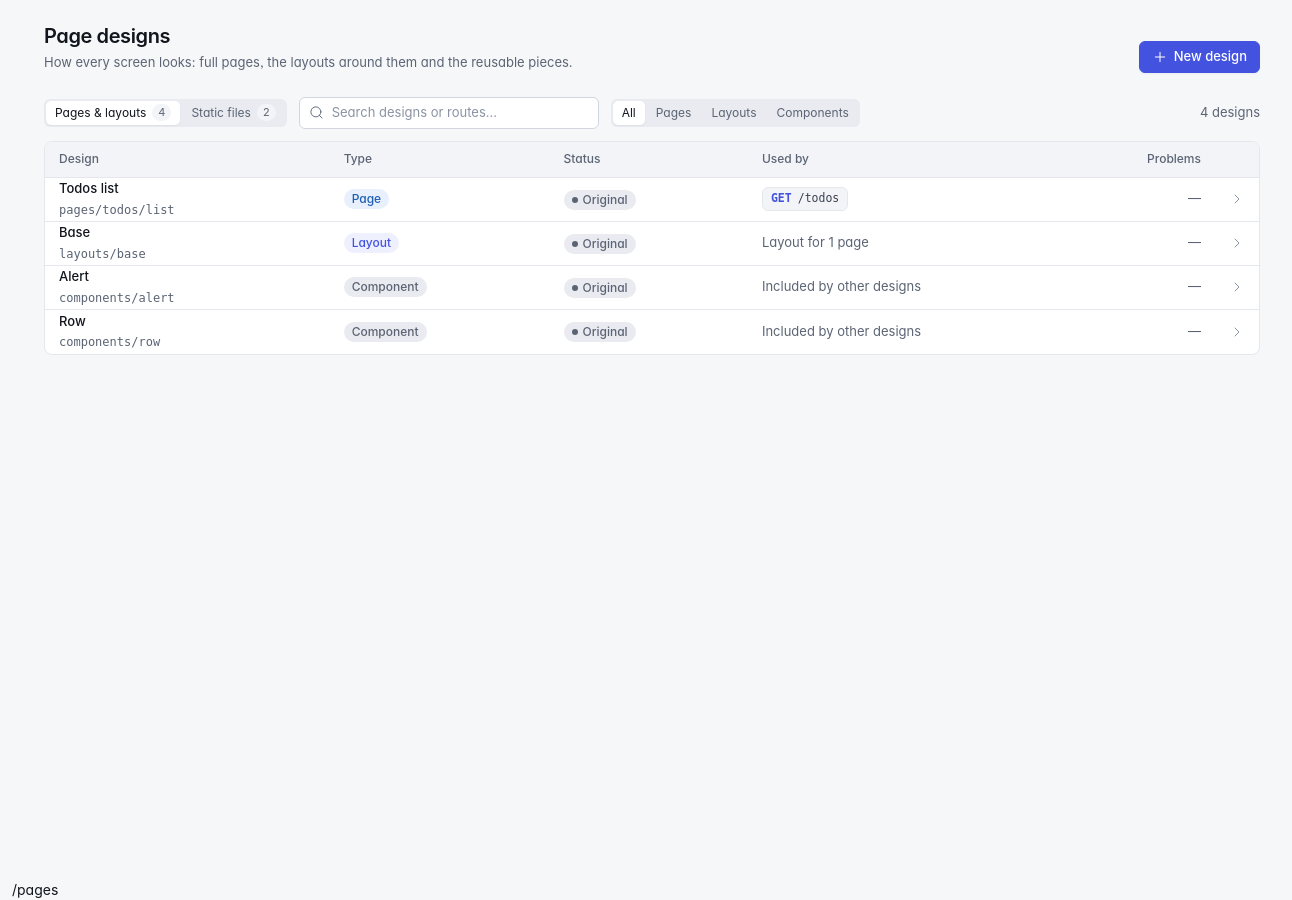
Page designs list › lists the static files the draft carries on the second tab
Click the tab "Static files 2" at (234, 112), box [182,100,285,124]
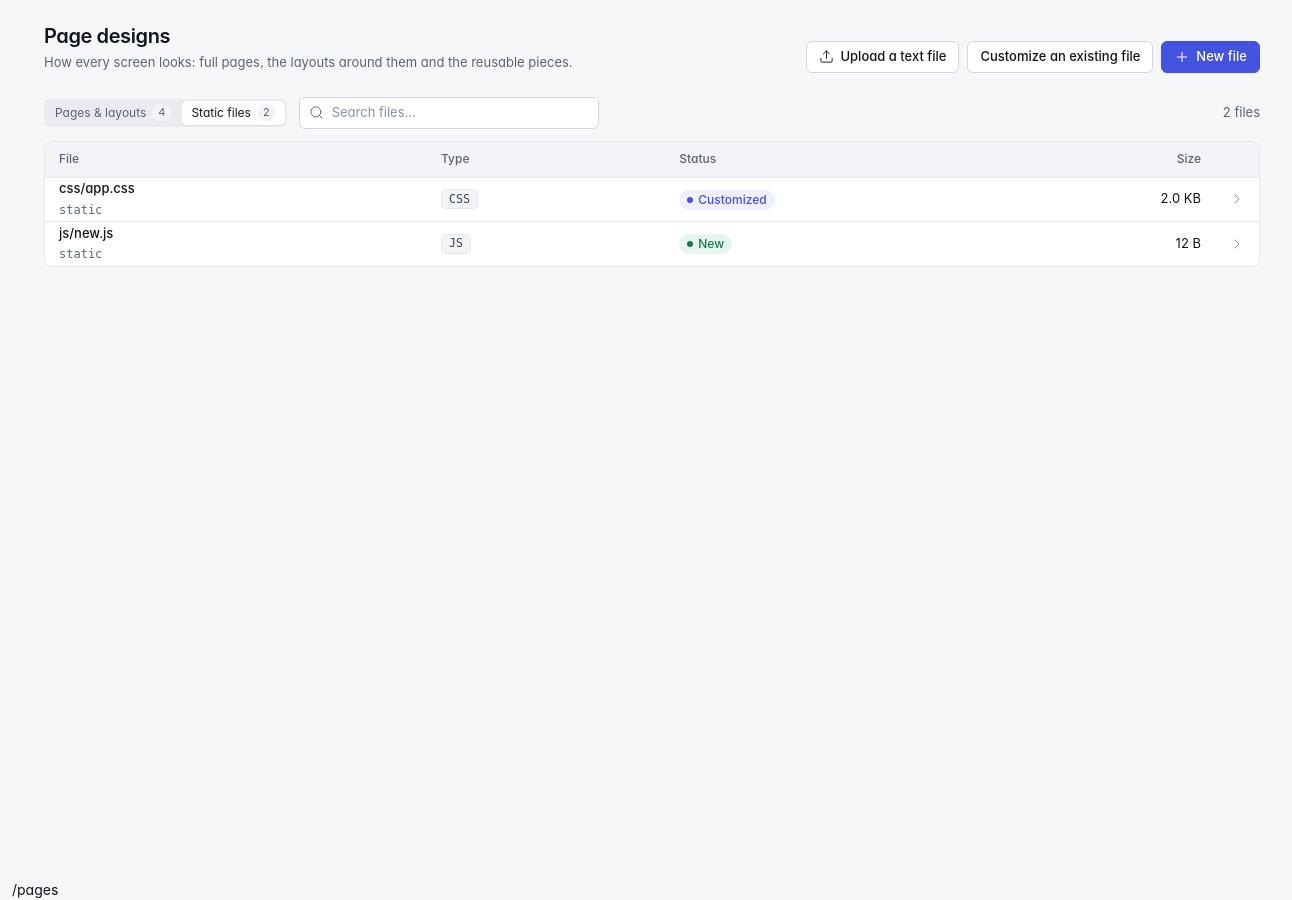
Now the row "css/app.css static CSS Customized 2.0 KB" is shown, box [45,178,1259,222]
Now the row "js/new.js static JS New 12 B" is shown, box [45,222,1259,266]
Now the button "Customize an existing file" is shown, box [968,40,1153,72]
